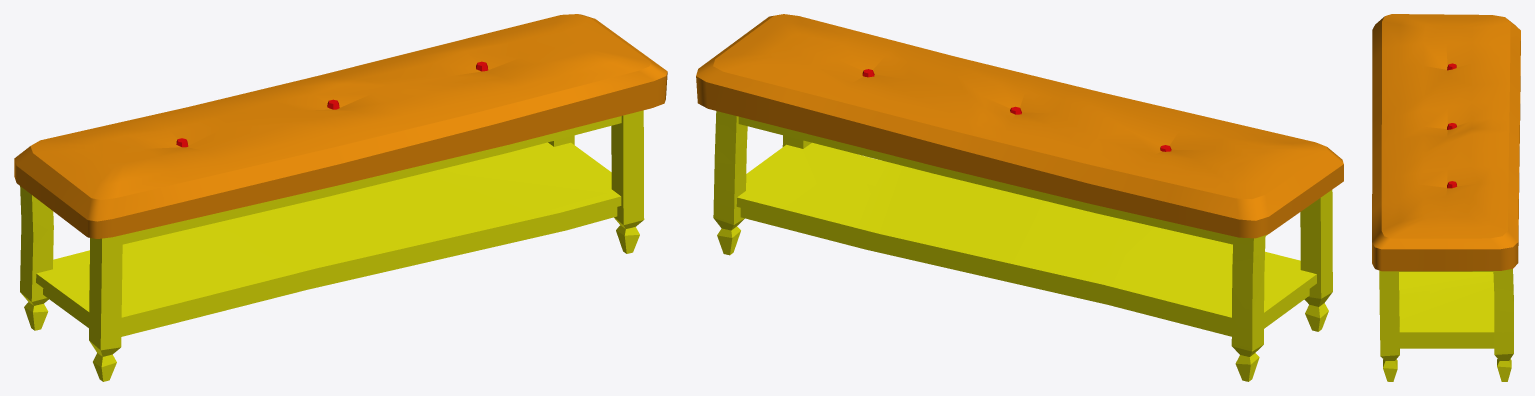
File: LR_Ottoman.fbx
3 views of the same model, side by side, from view 1: azimuth 30°, elevation 25°; view 2: azimuth 150°, elevation 25°; view 3: azimuth 270°, elevation 25° (orthographic). The views are drawn at different scales.
Parts seen in each view (by area): view 1: LR_Ottoman; view 2: LR_Ottoman; view 3: LR_Ottoman.
Boxes of the visible parts, x1=… form: LR_Ottoman: x1=14, y1=14, x2=667, y2=381; LR_Ottoman: x1=696, y1=14, x2=1343, y2=381; LR_Ottoman: x1=1372, y1=14, x2=1520, y2=381.
Size of the model in its own units: 251 by 79.03 by 67.78.
